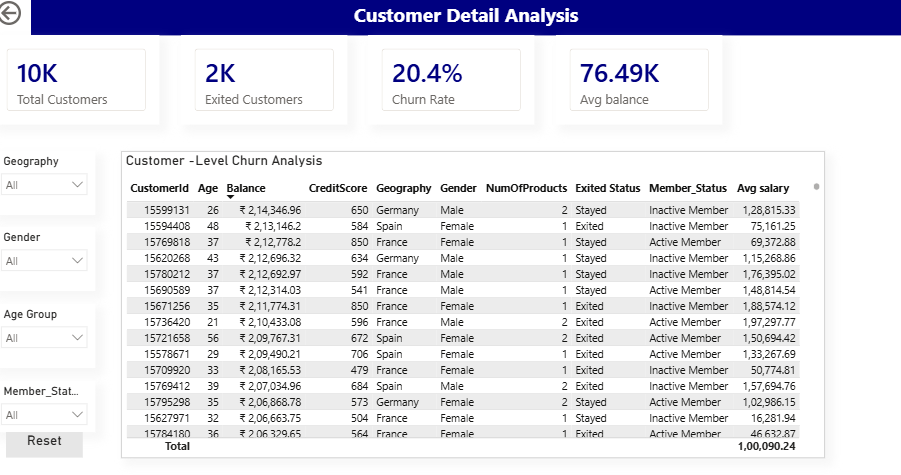

The page's visual inventory and layout, read from the dashboard file:
{"tool":"powerbi","page":{"name":"Customer Detail","canvas":[1280,720],"ordinal":1},"visuals":[{"type":"slicer","fields":{"Values":["Churn_Modelling.Geography"]},"box":[0,192,128,80],"z":0},{"type":"tableEx","title":"Customer -Level Churn Analysis","fields":{"Values":["Churn_Modelling.CustomerId","Churn_Modelling.Age","Churn_Modelling.Balance","Churn_Modelling.CreditScore","Churn_Modelling.Geography","Churn_Modelling.Gender","Churn_Modelling.NumOfProducts","Churn_Modelling.Exited Status","Churn_Modelling.Member_Status","Churn_Modelling.Avg salary"]},"box":[160,192,880,384],"z":1000},{"type":"actionButton","box":[0,0,100,40],"z":2000},{"type":"textbox","box":[48,0,1088,48],"z":4000},{"type":"cardVisual","fields":{"Data":["Churn_Modelling.Total Customers"]},"box":[0,48,208,112],"z":5000},{"type":"cardVisual","fields":{"Data":["Churn_Modelling.Exited Customers"]},"box":[234.7,48,208,112],"z":6000},{"type":"cardVisual","fields":{"Data":["Churn_Modelling.Churn Rate"]},"box":[469.3,48,208,112],"z":7000},{"type":"cardVisual","fields":{"Data":["Churn_Modelling.Avg balance"]},"box":[704,48,208,112],"z":8000},{"type":"slicer","fields":{"Values":["Churn_Modelling.Gender"]},"box":[0,288,128,80],"z":9000},{"type":"slicer","fields":{"Values":["Churn_Modelling.Age Group"]},"box":[0,384,128,80],"z":10000},{"type":"slicer","fields":{"Values":["Churn_Modelling.Member_Status"]},"box":[0,480,128,64],"z":11000},{"type":"actionButton","title":"Reset","box":[16,544,96,32],"z":11001}]}

Visuals, with their boxes on the page's 1280x720 design canvas (x1, y1, x2, y2). These are canvas units, not pixel positions in the 901x475 screenshot, which may show the page scaled, cropped or inside an application window:
slicer - Churn_Modelling.Geography: bbox=(0, 192, 128, 272)
"Customer -Level Churn Analysis" tableEx: bbox=(160, 192, 1040, 576)
actionButton: bbox=(0, 0, 100, 40)
textbox: bbox=(48, 0, 1136, 48)
cardVisual - Churn_Modelling.Total Customers: bbox=(0, 48, 208, 160)
cardVisual - Churn_Modelling.Exited Customers: bbox=(235, 48, 443, 160)
cardVisual - Churn_Modelling.Churn Rate: bbox=(469, 48, 677, 160)
cardVisual - Churn_Modelling.Avg balance: bbox=(704, 48, 912, 160)
slicer - Churn_Modelling.Gender: bbox=(0, 288, 128, 368)
slicer - Churn_Modelling.Age Group: bbox=(0, 384, 128, 464)
slicer - Churn_Modelling.Member_Status: bbox=(0, 480, 128, 544)
"Reset" actionButton: bbox=(16, 544, 112, 576)
